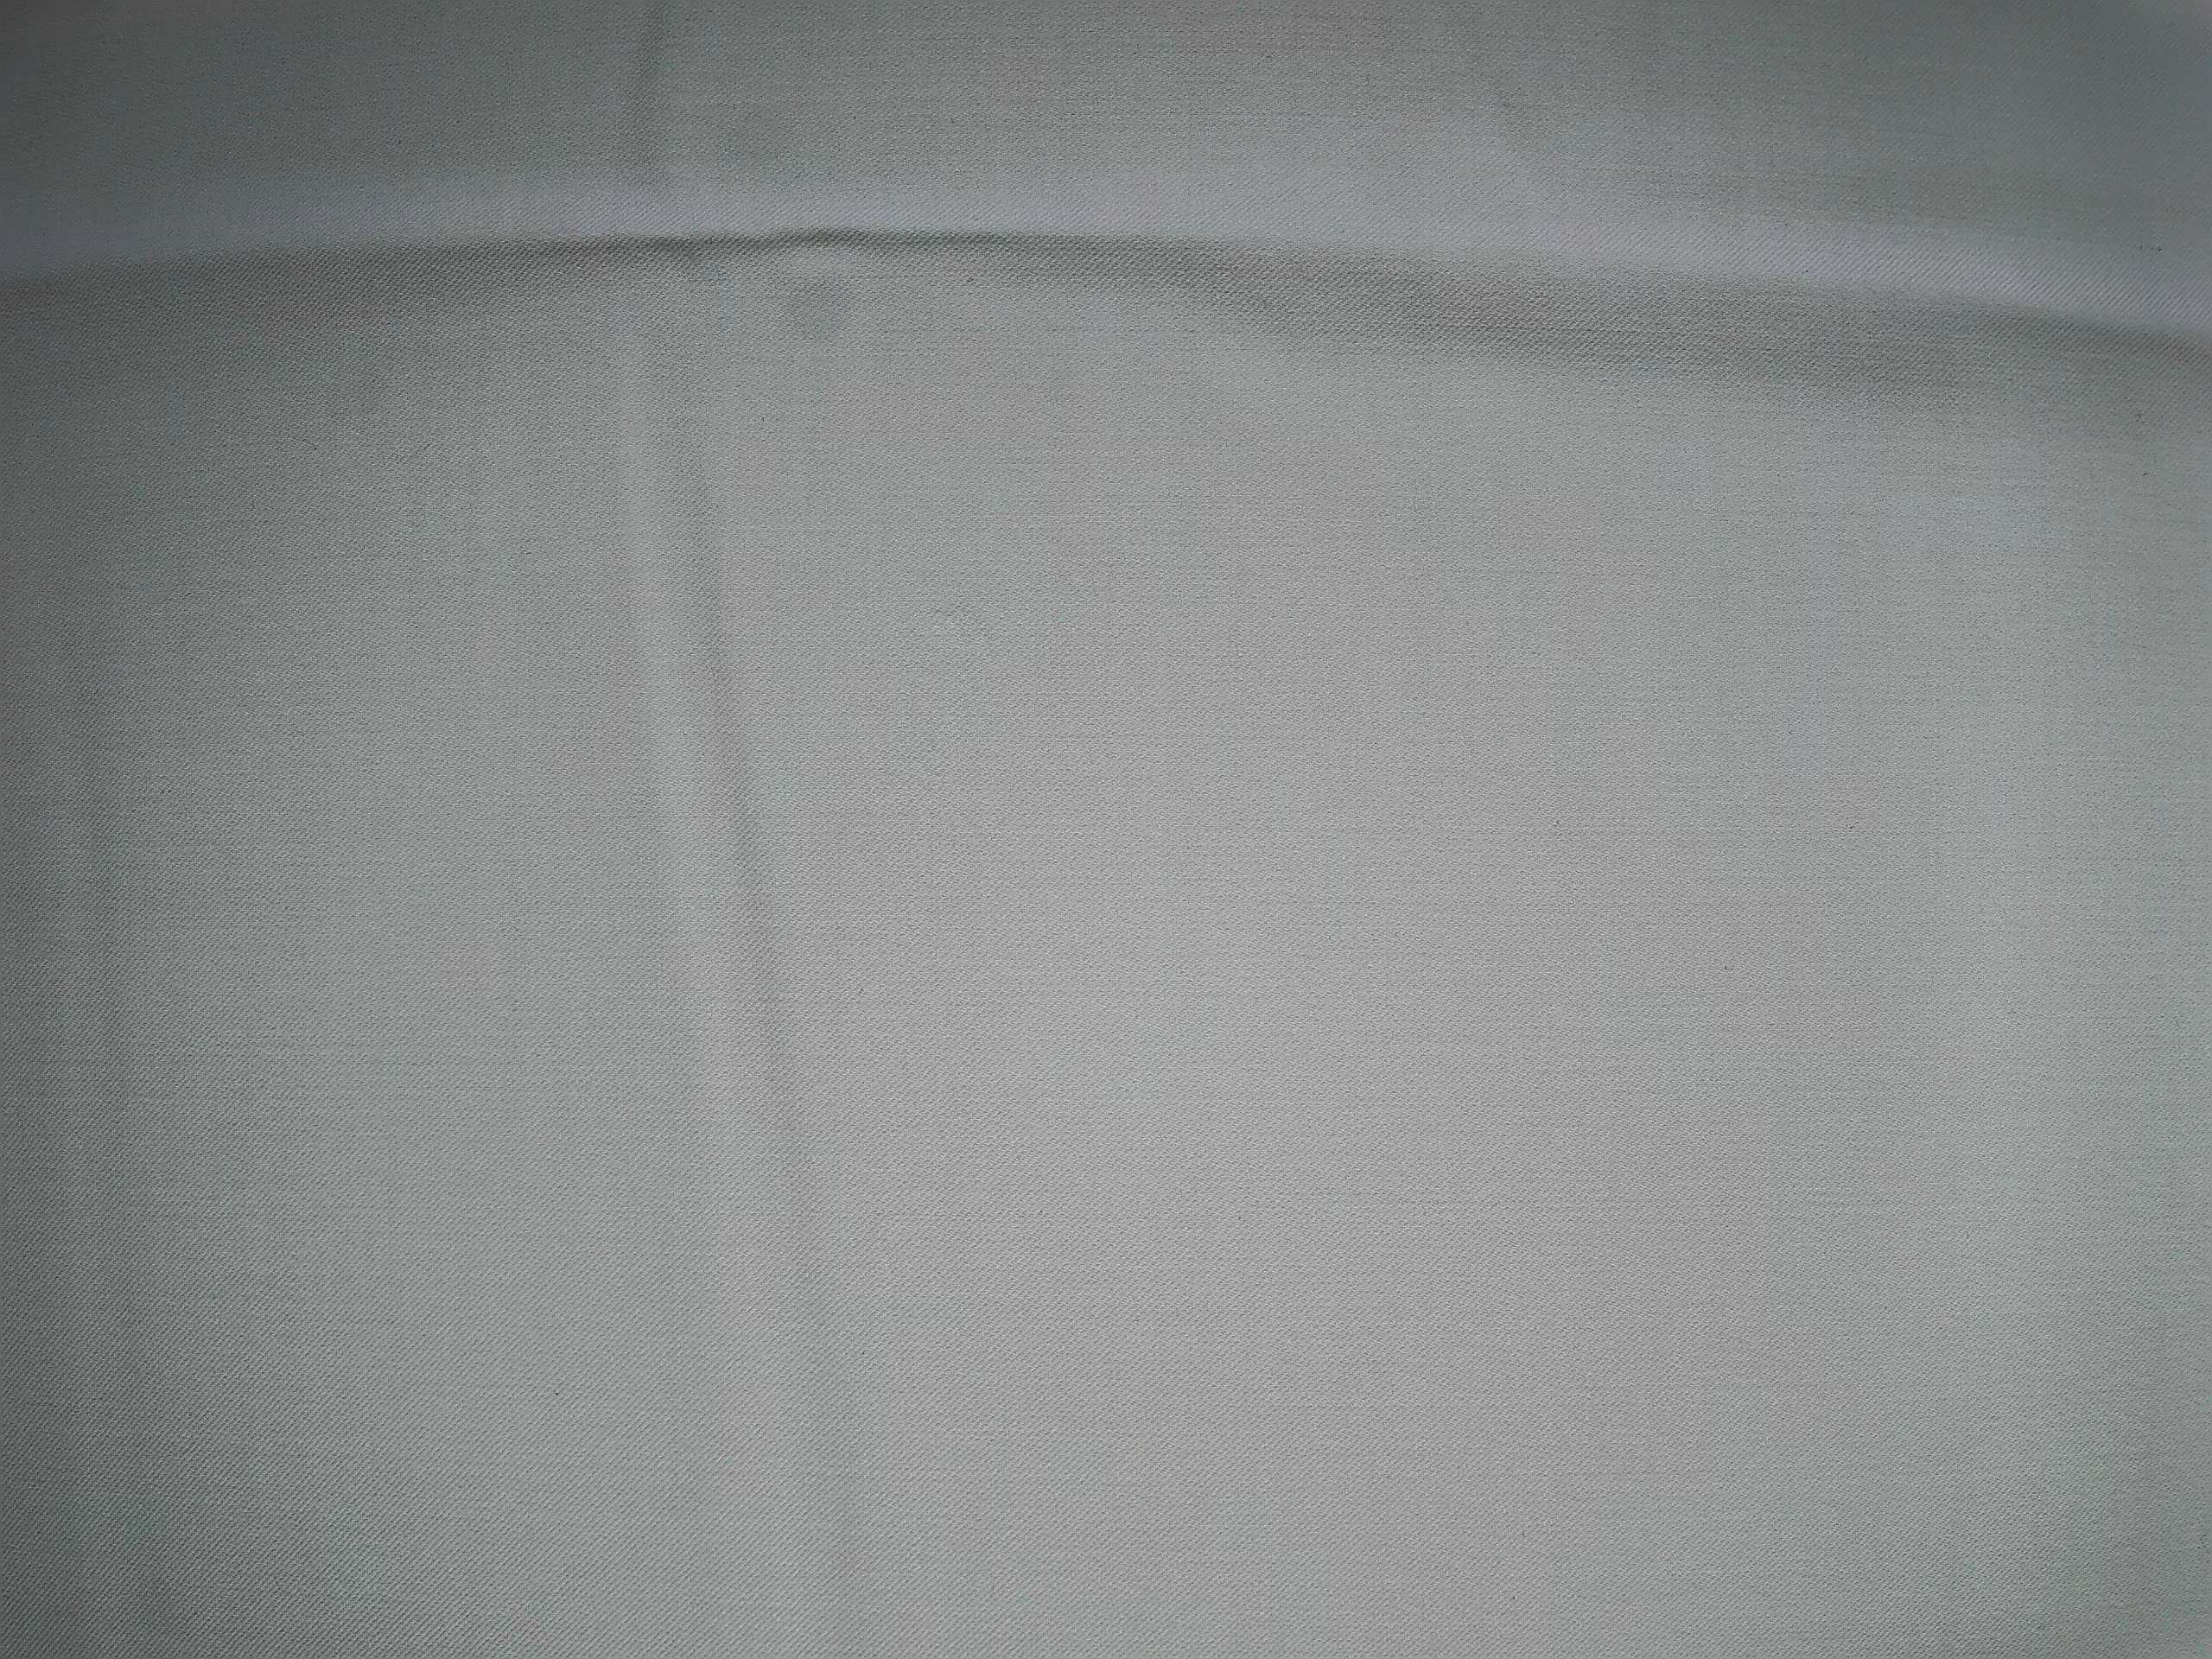stains: (766, 244, 877, 368)
